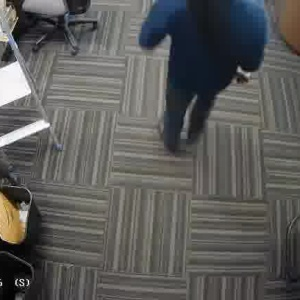person: (144, 0, 256, 152)
